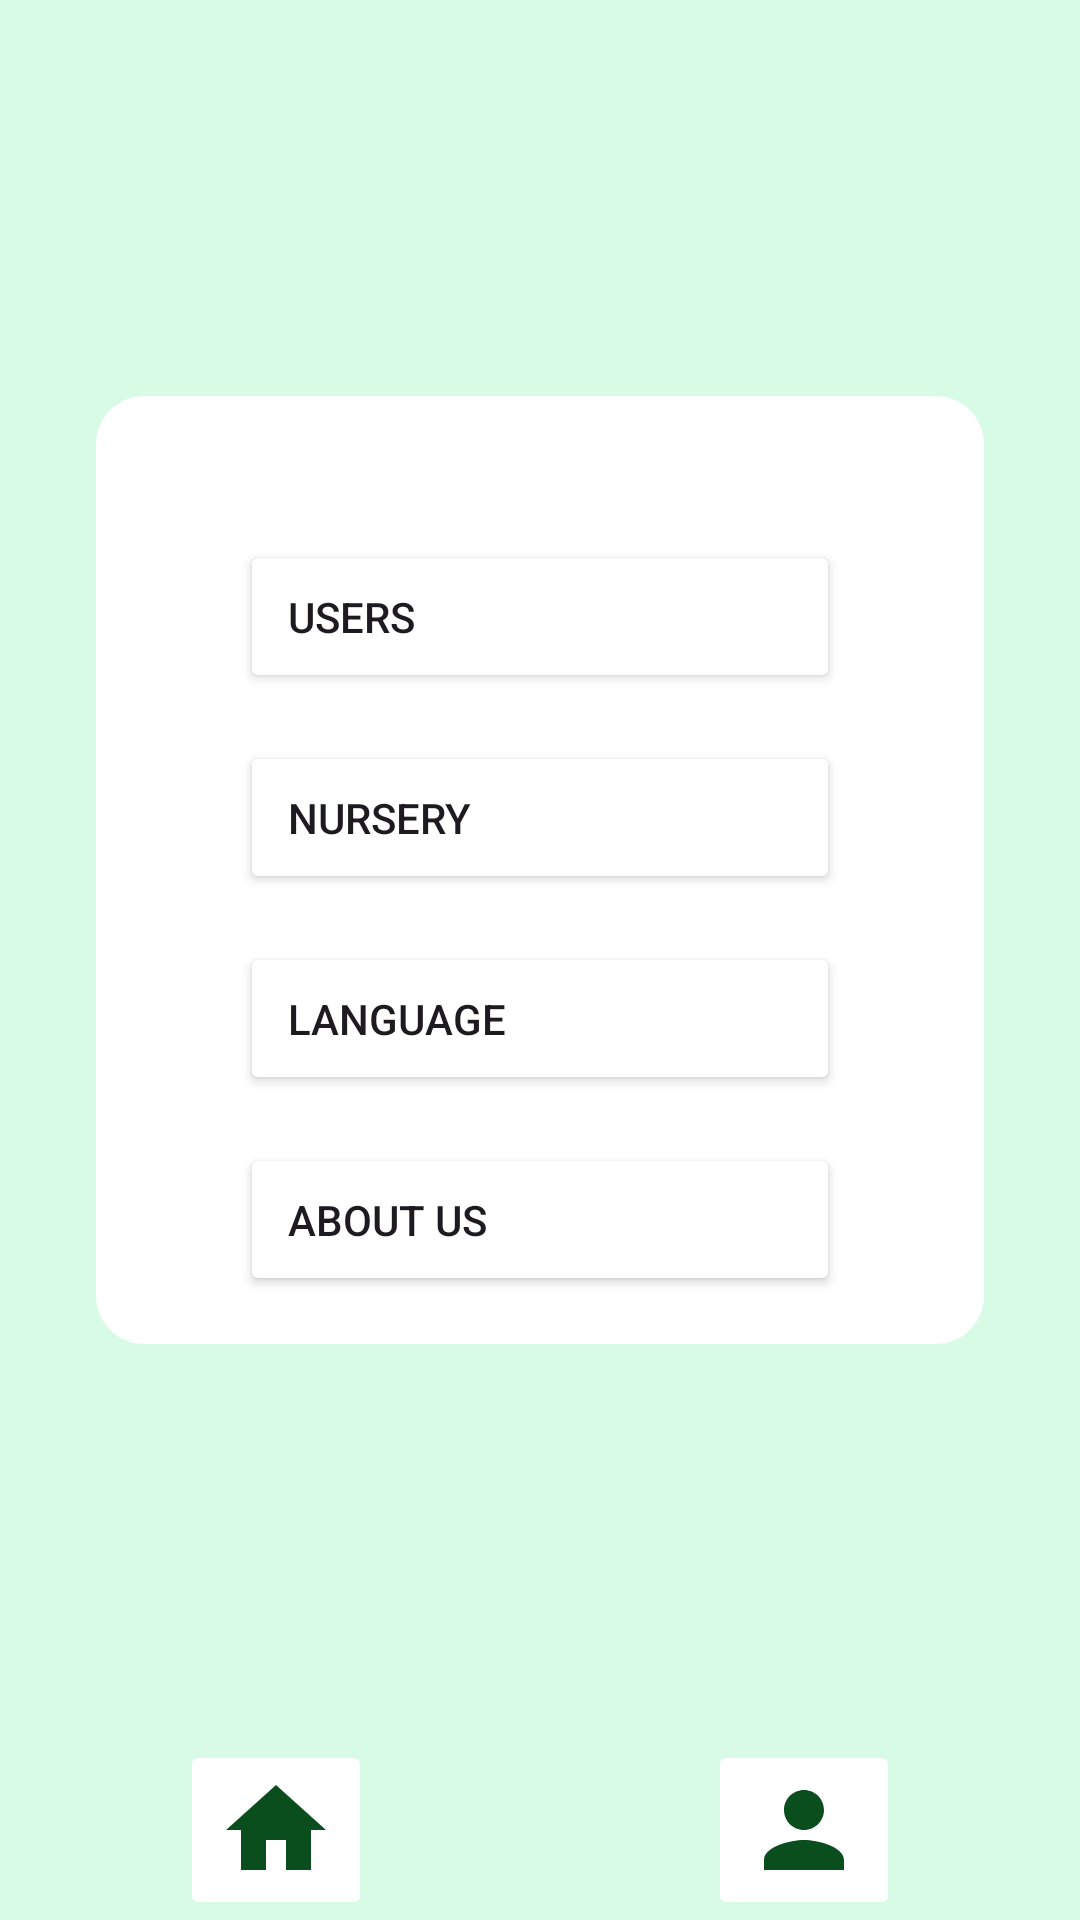

Where to tap for icons on this 1080px×1920px app screen, as point (x, y):
home: point (276, 1830)
